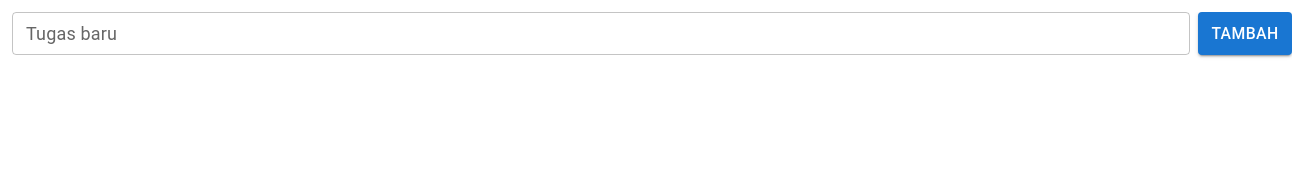
FormTugas › memanggil onTambah dengan teks yang diketik, lalu mengosongkan kolom
Type "Belajar testing" into the field labelled "Tugas baru" at (601, 33), box [12,12,1190,55]
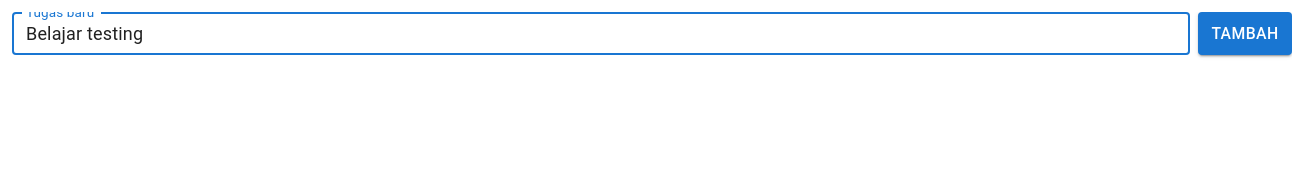
Click the button "Tambah" at (1245, 33), box [1198,12,1292,55]
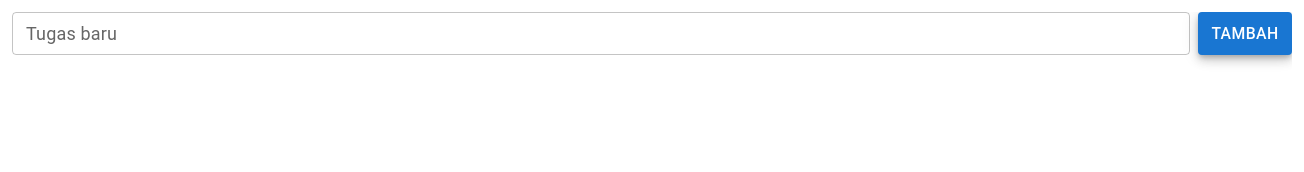
Expected: the field labelled "Tugas baru" is empty, [12,12,1190,55]
